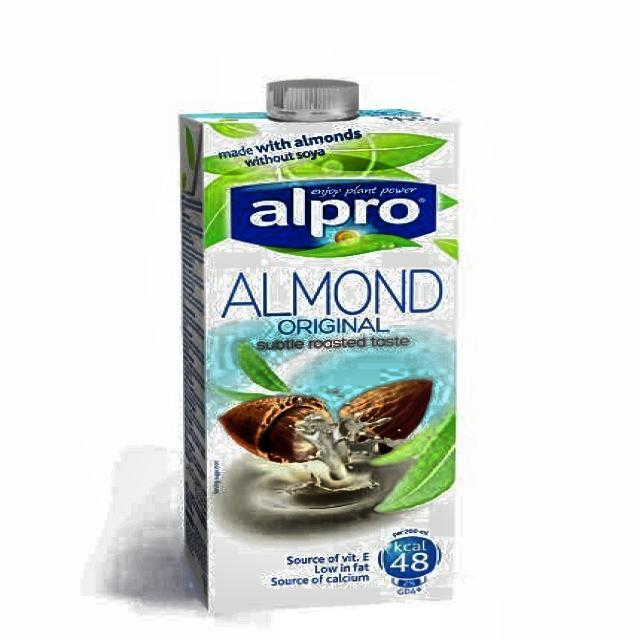cardboard: (177, 88, 462, 610)
